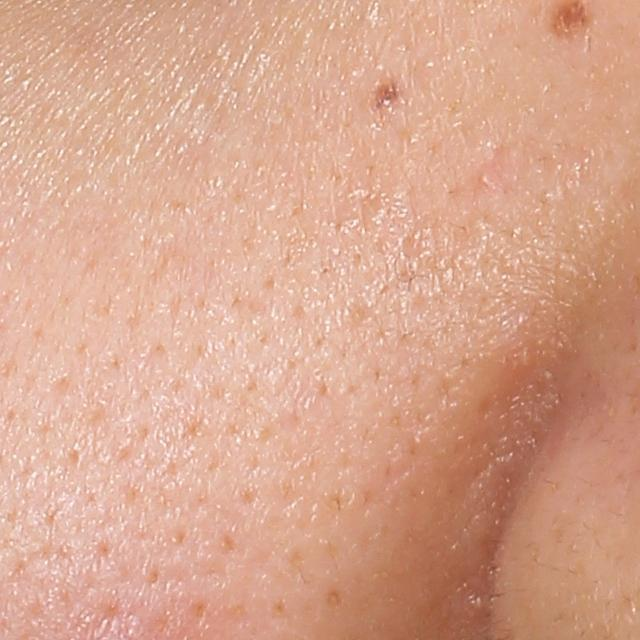nevus: (362, 68, 415, 121)
